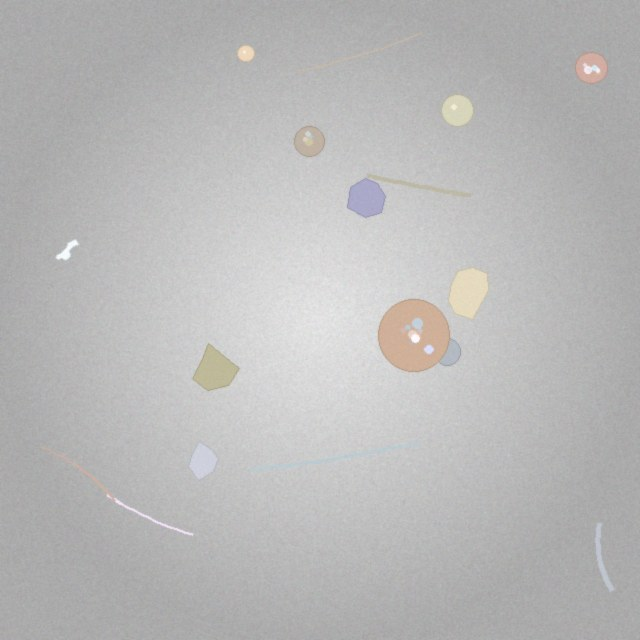fiber: (245, 438, 424, 475), (296, 31, 423, 74), (39, 444, 117, 504), (104, 492, 195, 538), (362, 170, 476, 202), (592, 517, 618, 597)
film: (56, 240, 80, 260)
foam: (378, 300, 450, 371), (576, 52, 607, 84), (294, 126, 325, 157)
fragment: (193, 344, 240, 390), (449, 268, 488, 319), (348, 178, 386, 217), (189, 442, 218, 481)
pellet: (442, 95, 473, 126), (434, 339, 461, 365), (238, 46, 254, 62)
